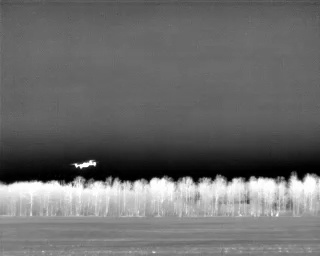DRONE: (67, 155, 102, 173)
